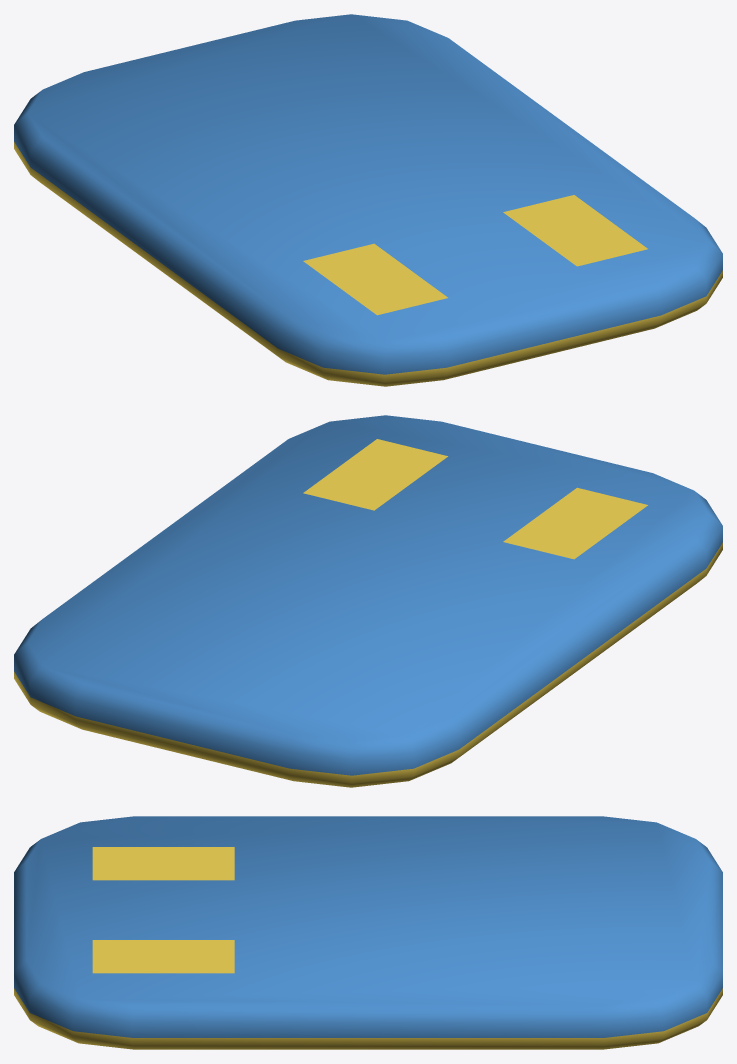
File: kickboard.glb
The picture shows the model from 3 angles, top to bottom: view 1: azimuth 30°, elevation 25°; view 2: azimuth 150°, elevation 25°; view 3: azimuth 270°, elevation 25°; orthographic projection. The views are drawn at different scales.
Parts seen in each view (by area): view 1: pool_kickboard; view 2: pool_kickboard; view 3: pool_kickboard.
Part boxes in pixels (box(x1,y1,x2,y2)): pool_kickboard: box(14, 14, 722, 386); pool_kickboard: box(14, 415, 722, 787); pool_kickboard: box(14, 816, 722, 1049).
Bounding box in the file's own units: 0.3 × 0.0305 × 0.45.
